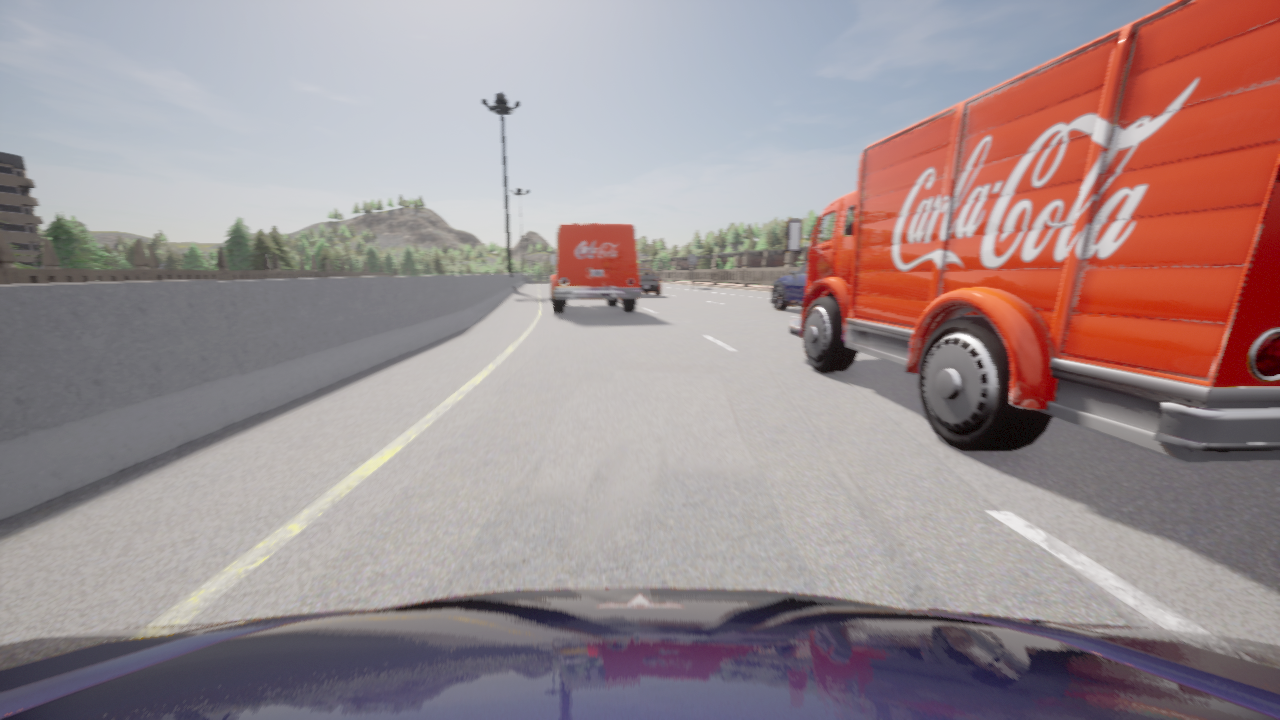cyclist: (785, 0, 1279, 462), (0, 588, 1279, 719), (549, 223, 641, 313), (771, 262, 807, 309), (638, 268, 660, 296)
